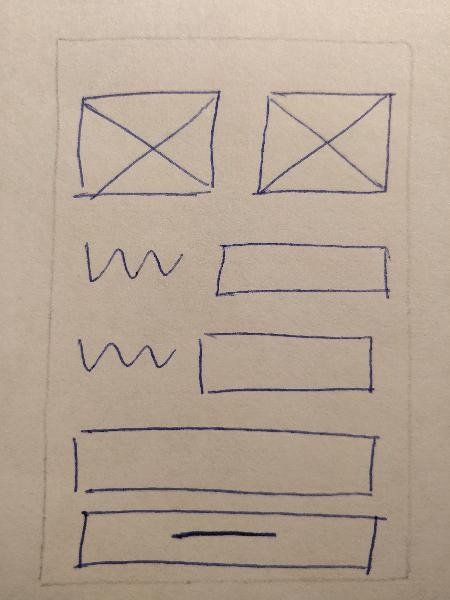button: (68, 504, 387, 577)
image: (246, 80, 401, 203), (69, 85, 229, 201)
text: (69, 324, 187, 386), (75, 230, 191, 293)
text_input: (64, 419, 384, 503), (190, 325, 382, 402), (209, 234, 401, 309)
